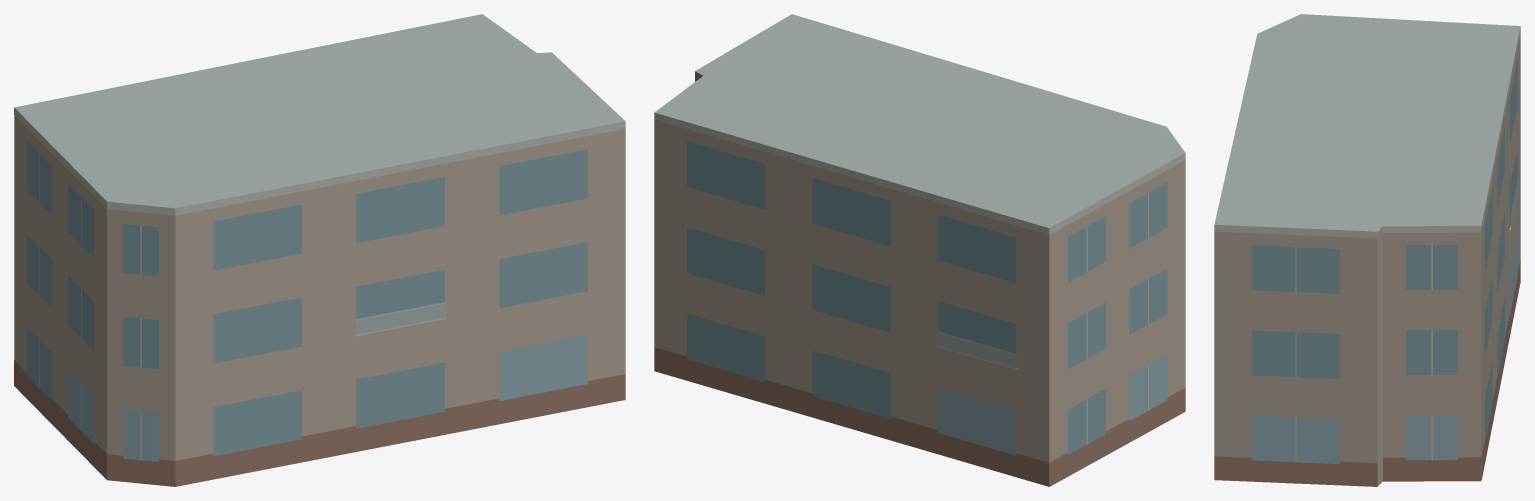
Rendered from survey-upis-32816647.glb.
The picture shows the model from 3 angles, left to right: view 1: azimuth 30°, elevation 25°; view 2: azimuth 150°, elevation 25°; view 3: azimuth 270°, elevation 25°; orthographic projection. The views are drawn at different scales.
Parts seen in each view (by area): view 1: survey-upis-32816647.tmp; view 2: survey-upis-32816647.tmp; view 3: survey-upis-32816647.tmp.
Part boxes in pixels (x1,y1,x2,y2): survey-upis-32816647.tmp: [14, 14, 625, 486]; survey-upis-32816647.tmp: [654, 14, 1185, 486]; survey-upis-32816647.tmp: [1214, 14, 1520, 486].
Bounding box in the file's own units: 16.74 × 9.15 × 9.96.
